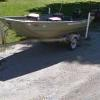Boat: (1, 9, 92, 55)
